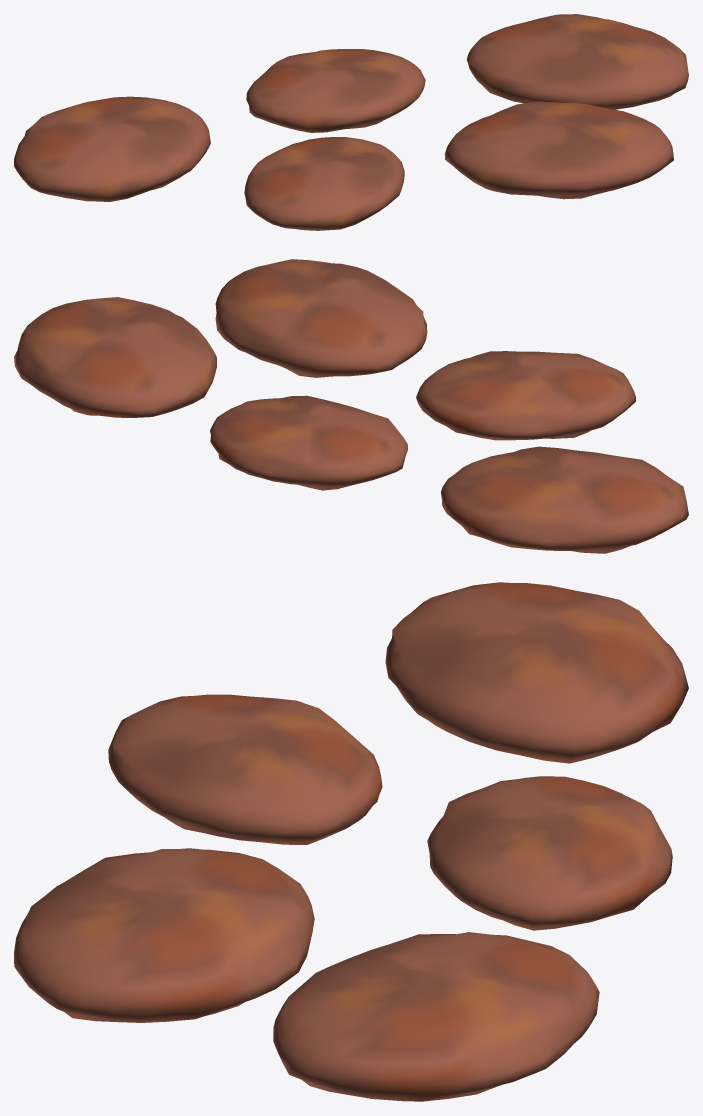
The model's file is набор мяса.fbx.
3 views of the same model, one above another, from view 1: azimuth 30°, elevation 25°; view 2: azimuth 150°, elevation 25°; view 3: azimuth 270°, elevation 25° (orthographic). The views are drawn at different scales.
Visible parts, largest first — view 1: Сфера.003; view 2: Сфера.003; view 3: Сфера.003.
Boxes of the visible parts, x1=… form: Сфера.003: x1=14, y1=14, x2=688, y2=230; Сфера.003: x1=14, y1=259, x2=688, y2=553; Сфера.003: x1=14, y1=582, x2=688, y2=1101.
Bounding box in the file's own units: 139 × 12.17 × 80.55.
